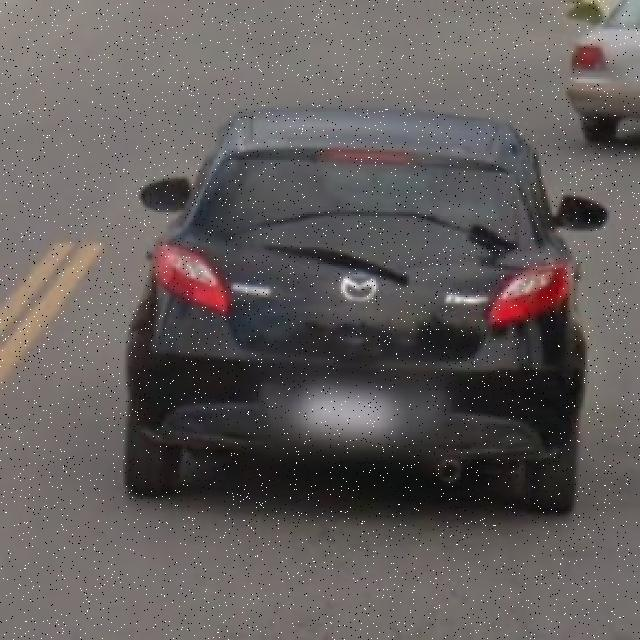cars: (133, 113, 583, 532)
